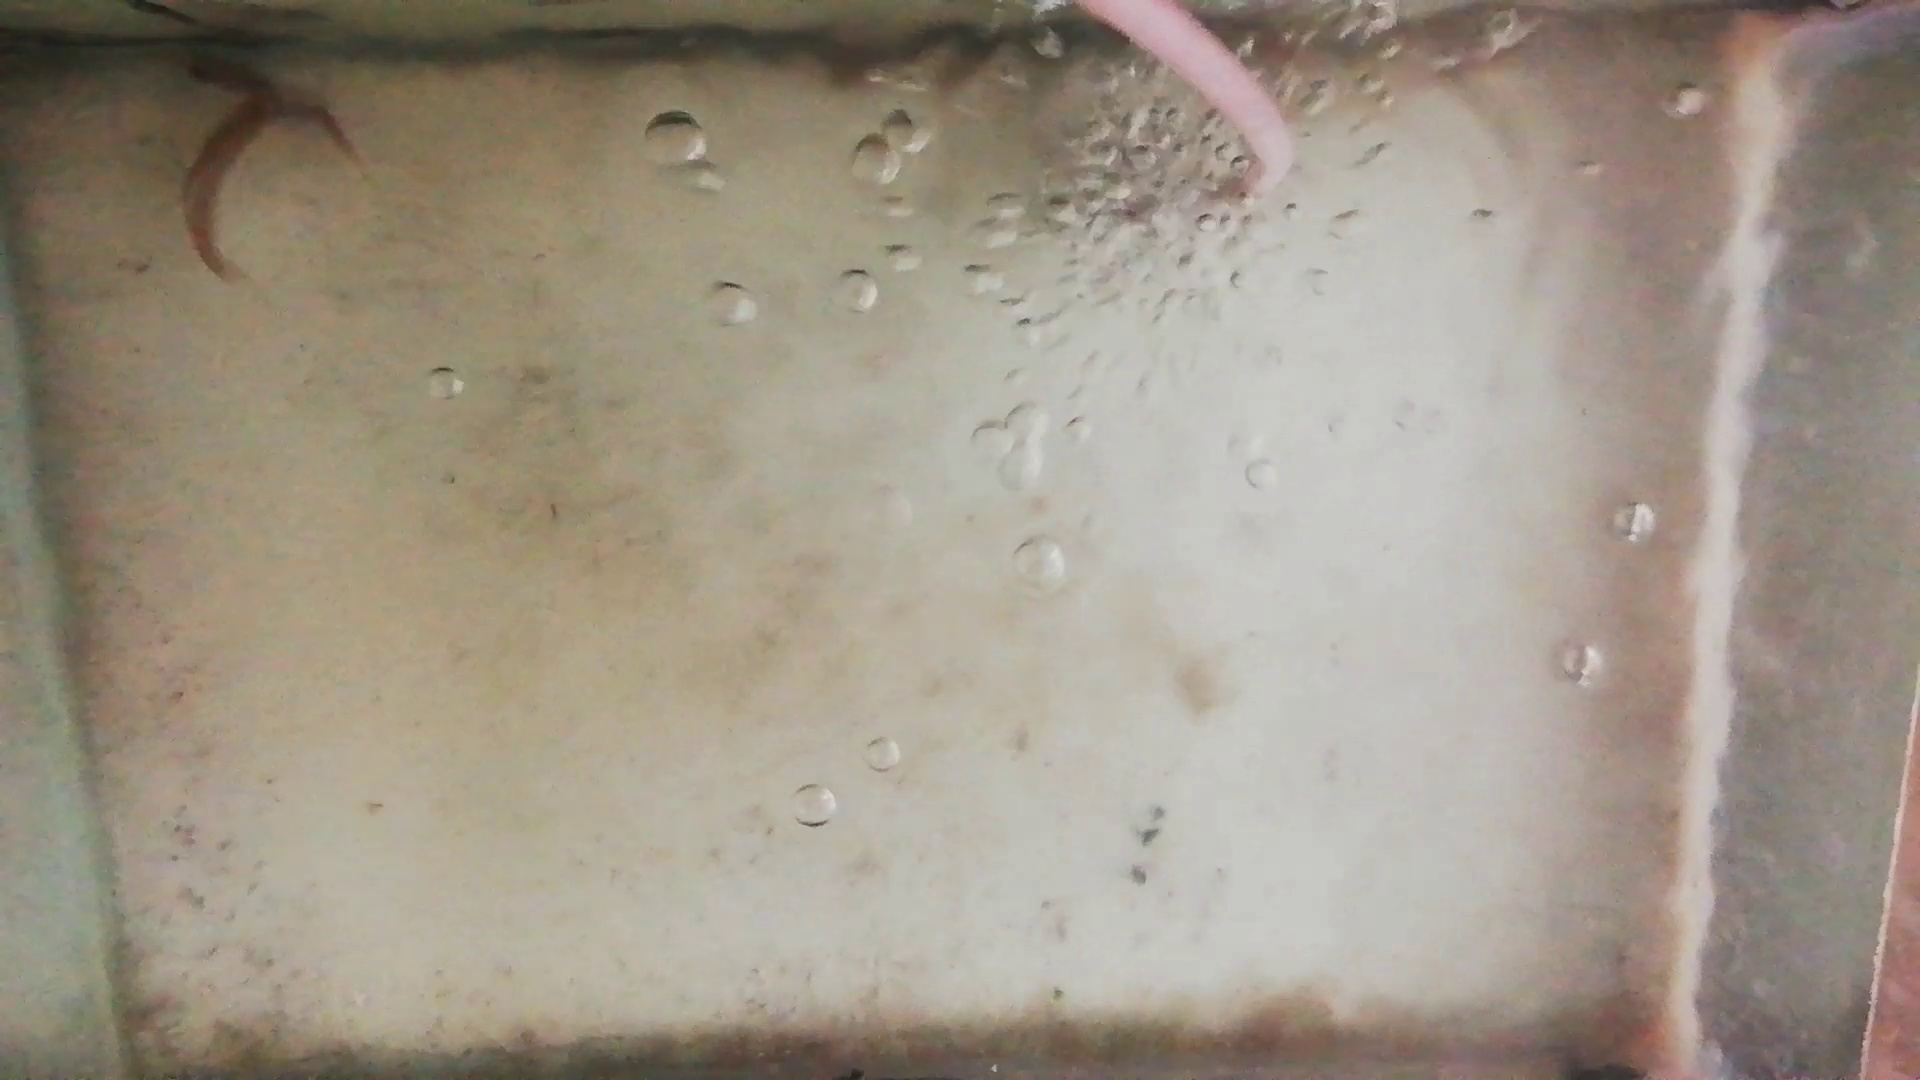fish: (183, 92, 286, 281), (193, 51, 352, 146)
